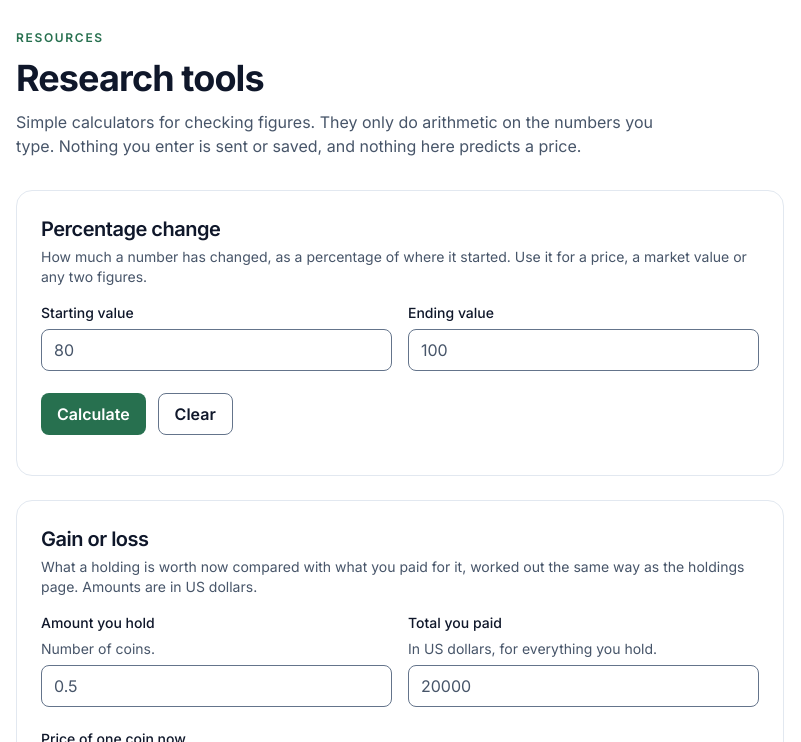
Test: Research tools page › lists every problem, marks the fields and moves focus to the first one
The image size is (801, 742).
In the field labelled "Total you paid": (584, 686) [408, 665, 759, 707], type "abc"
(page scrolled)
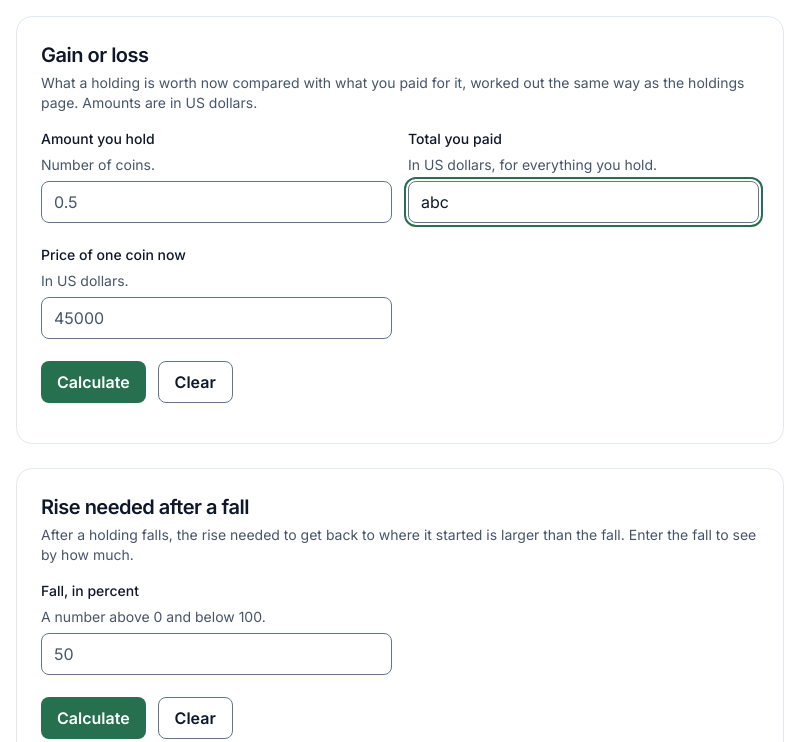
Click the button "Calculate" below "Price of one coin now": (93, 382) [41, 361, 146, 403]
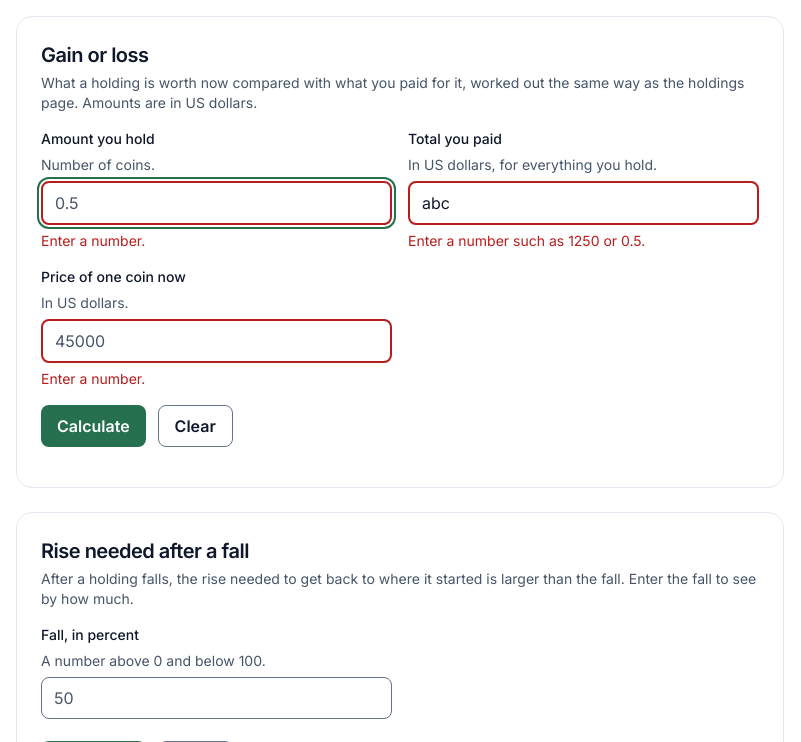
Result: the text "Enter a number." is shown 2 times at [40, 231, 145, 249]; [40, 369, 145, 387]
Result: the text "Enter a number such as 1250 or 0.5." is shown at [407, 231, 645, 249]
